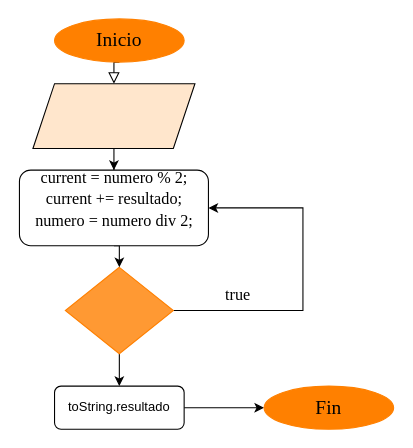
The diagram is 413 pixels wide and 448 high, and some of its shapes have lost their labels. The shapes that lost their labels are listed below. From the top down, each one's centre as x and y in pixels, then its label:
At [113,115]: "numero resultado = [] current".
At [118,310]: "numero != 0".
